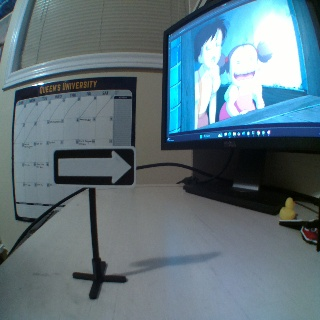sign_oneway_right: (53, 149, 134, 186)
